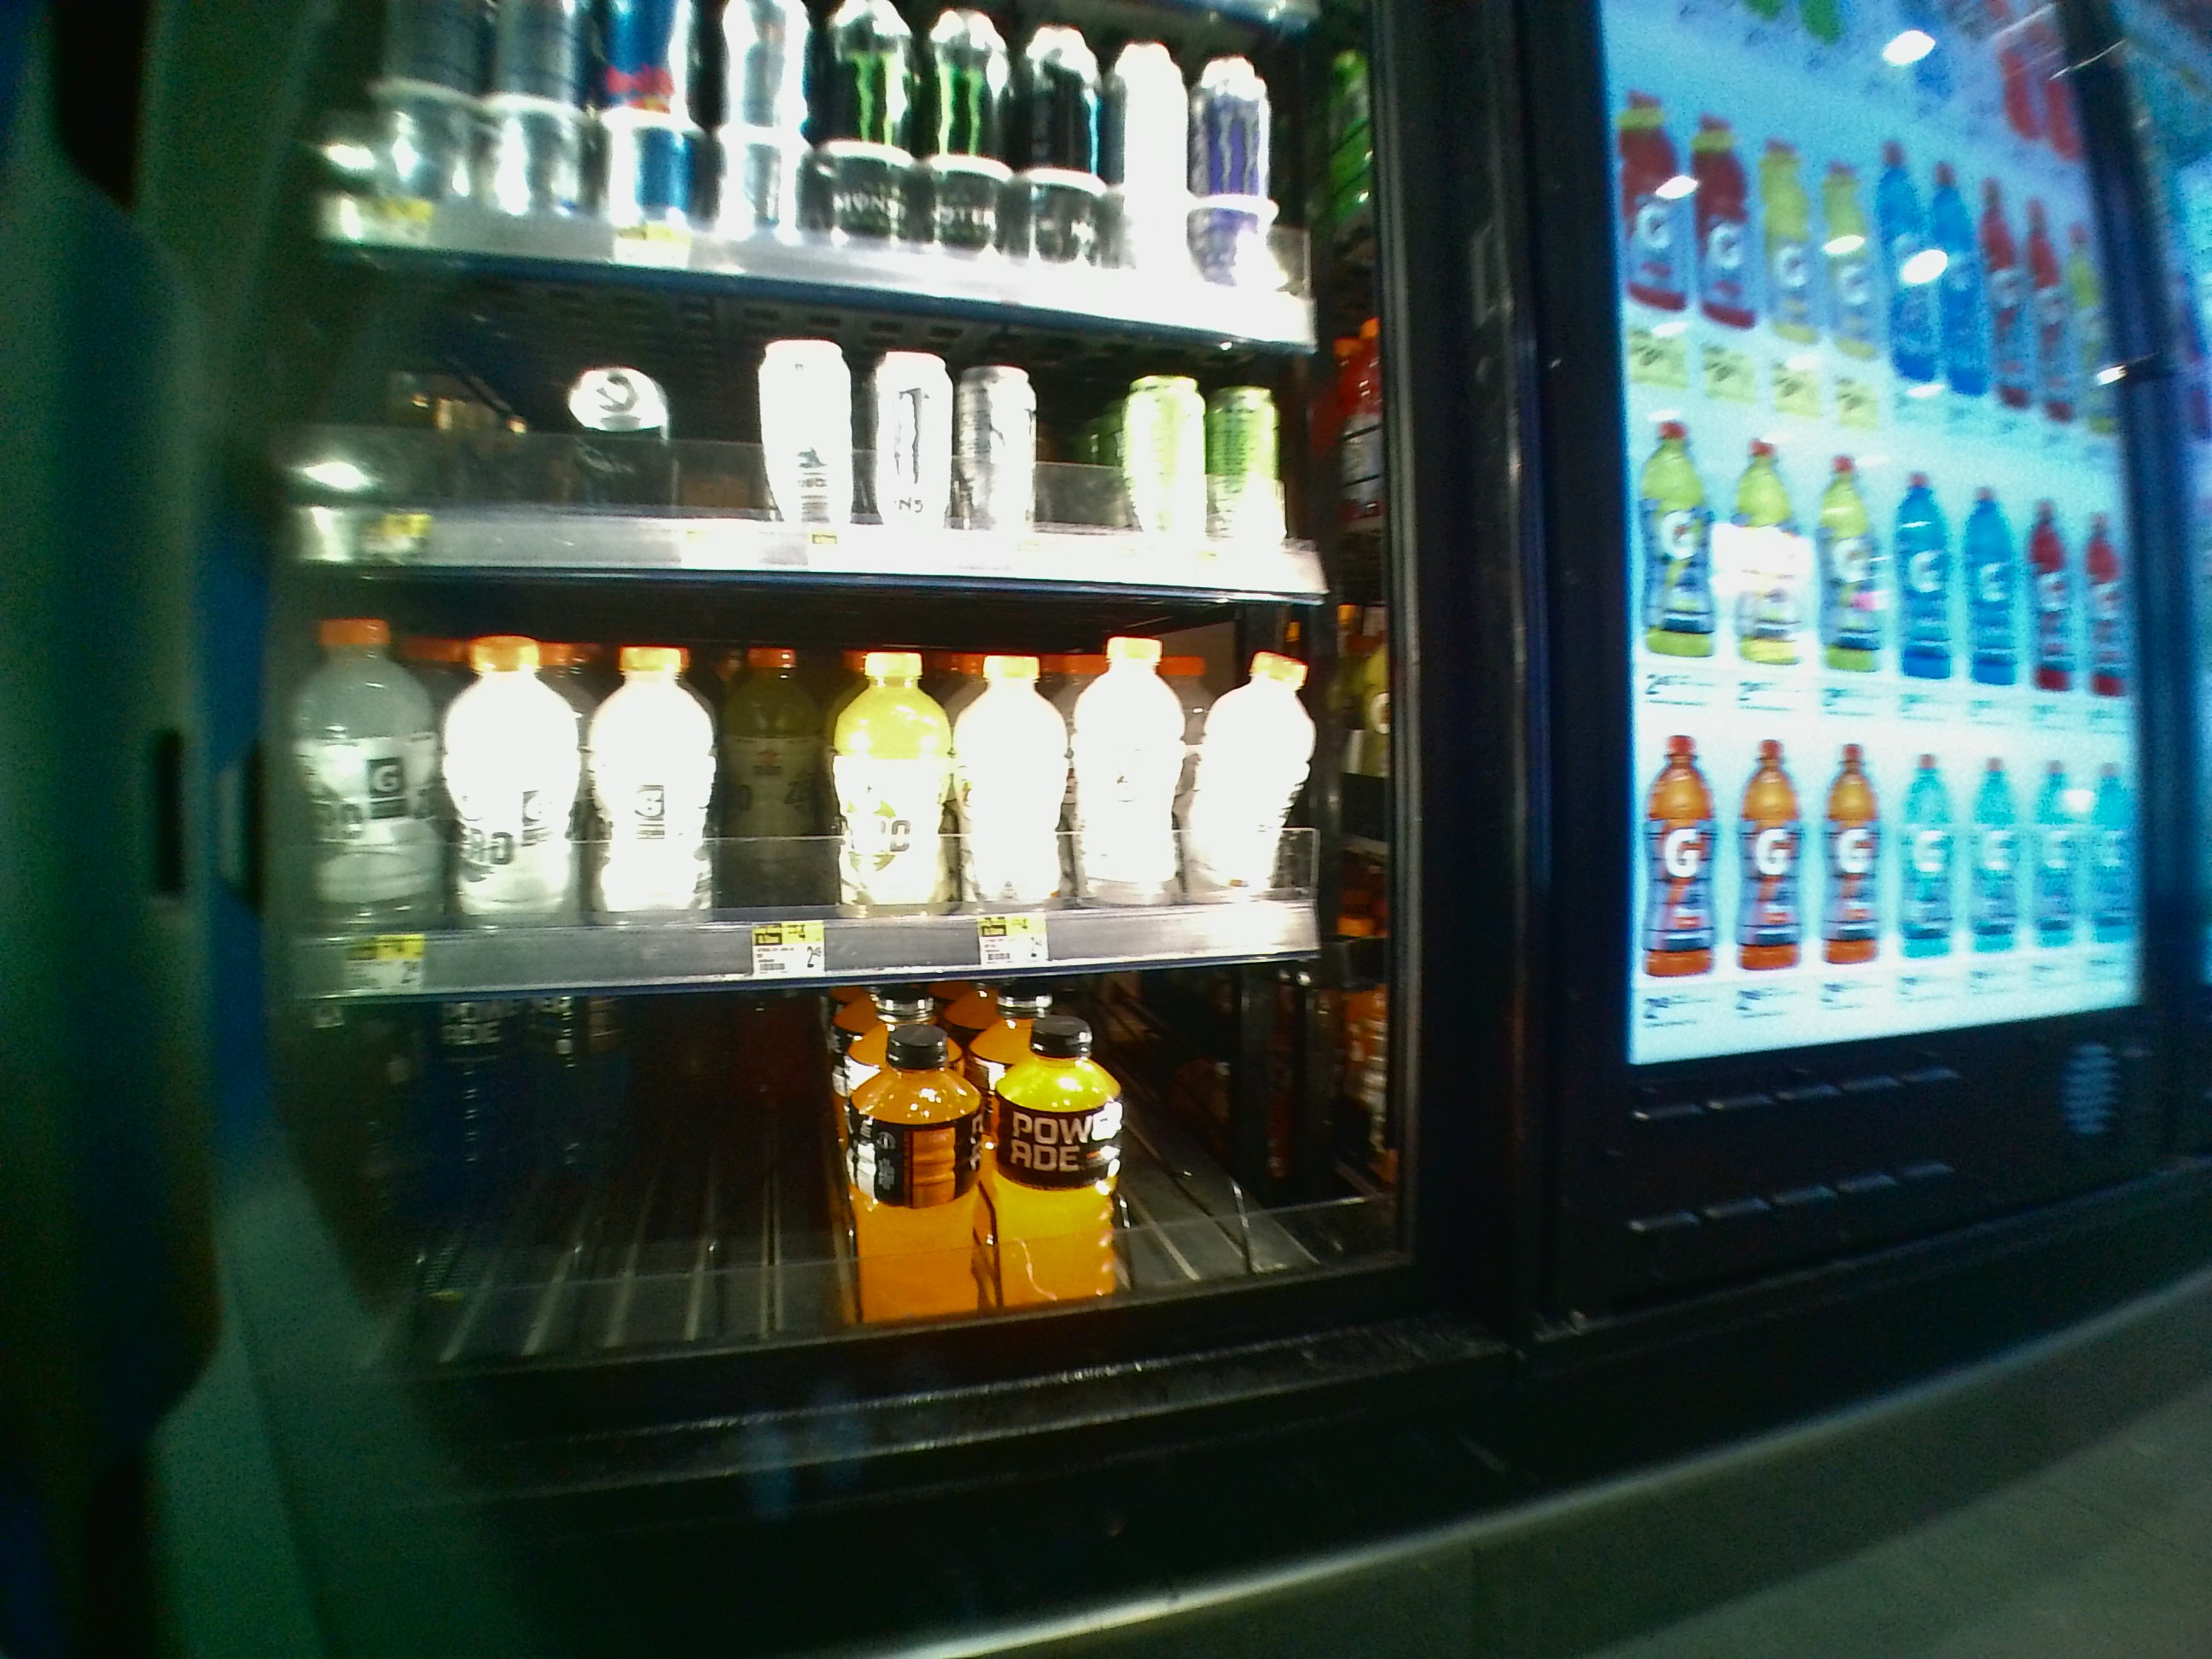shelf: (266, 565, 1404, 979)
